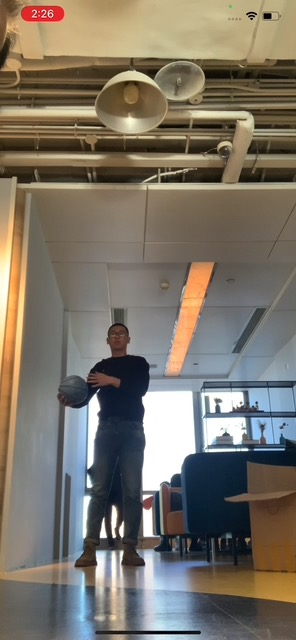ball: (58, 374, 88, 406)
